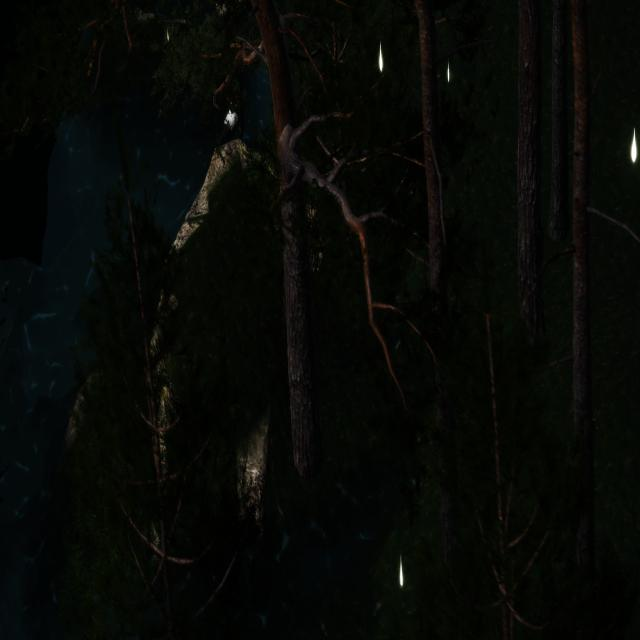Human: (190, 77, 252, 158)
